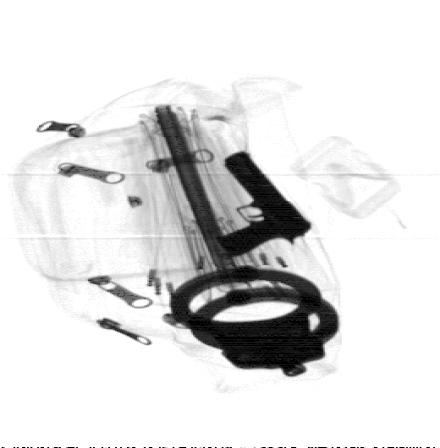Gun: (218, 151, 316, 257)
HandCuffs: (170, 262, 340, 377)
